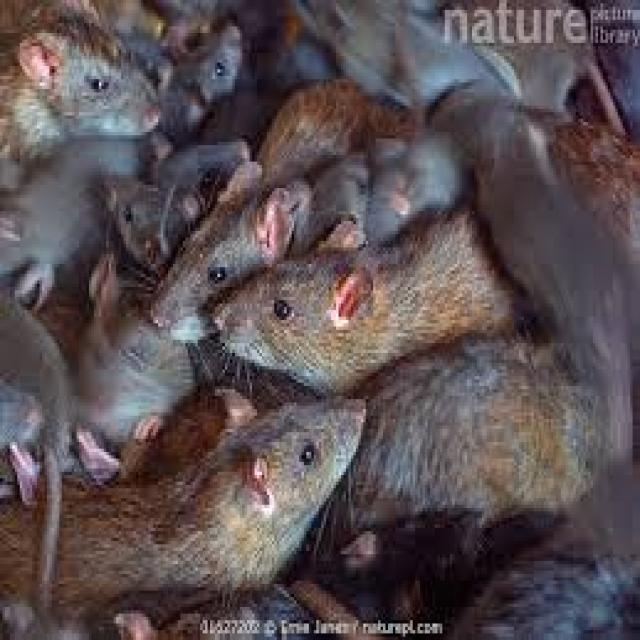Rat: (18, 19, 601, 613)
